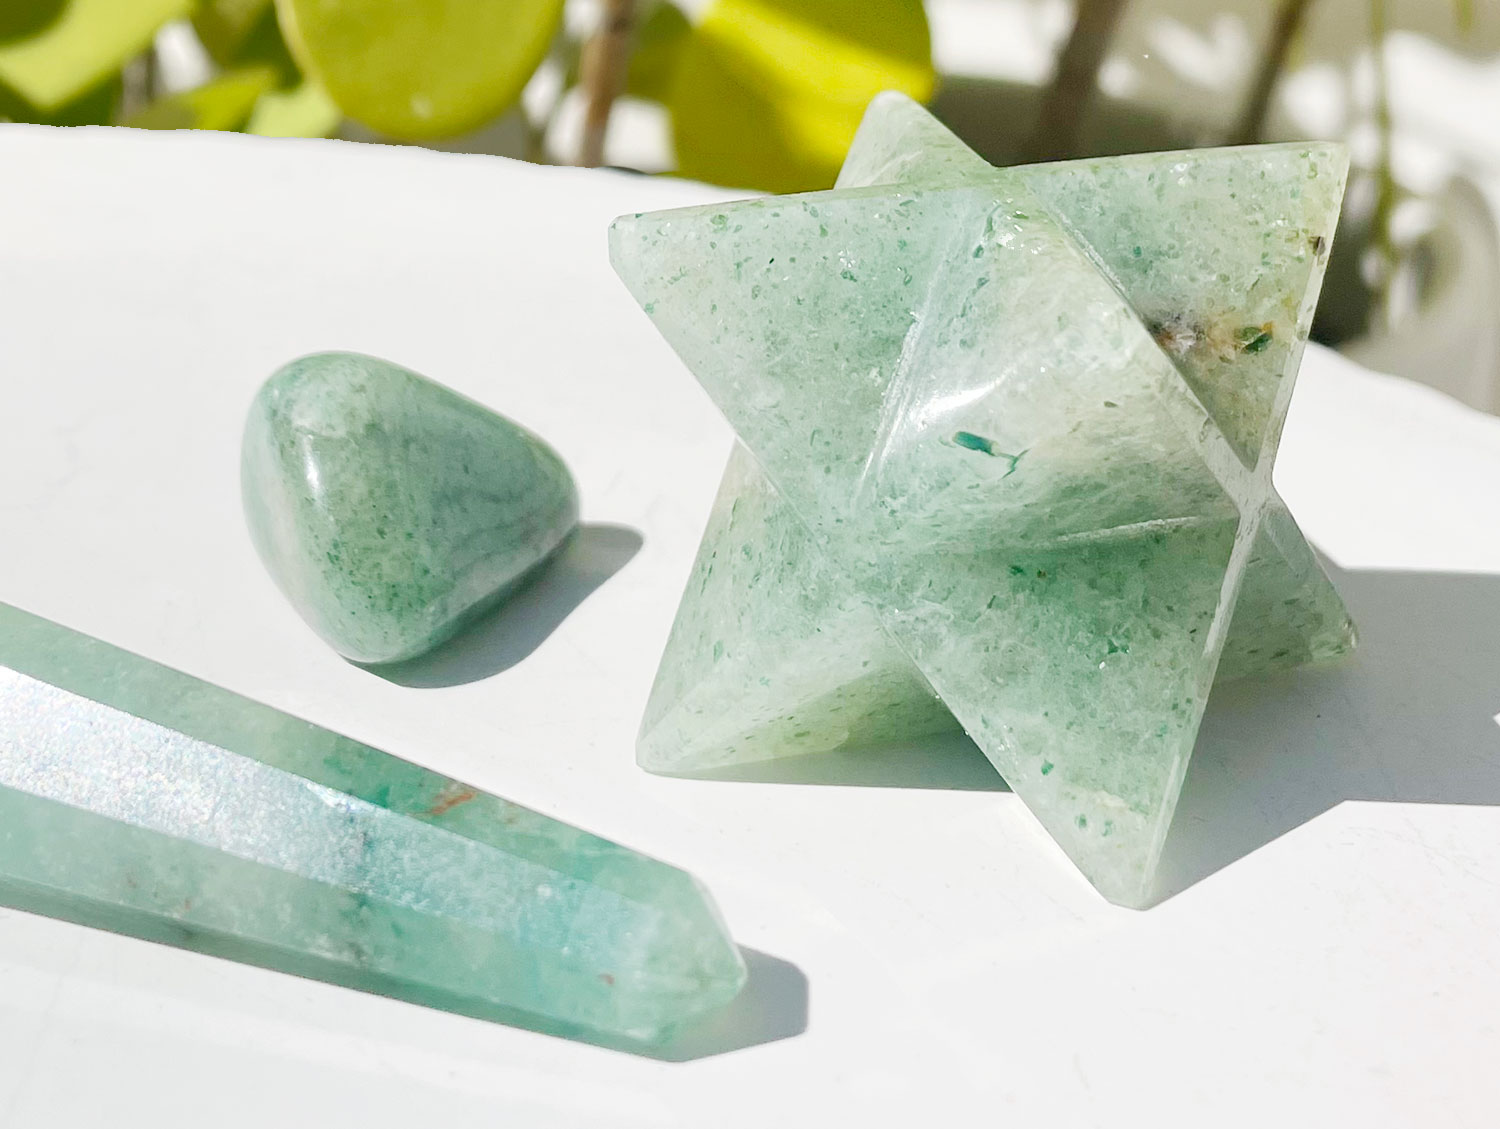Aventurine: (602, 89, 1368, 921), (0, 591, 762, 1060), (229, 347, 582, 666), (1020, 72, 1027, 85)
